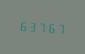seven: (36, 19, 44, 34), (54, 20, 62, 35)
six: (18, 18, 26, 32), (45, 20, 53, 34)
three: (27, 18, 35, 33)
